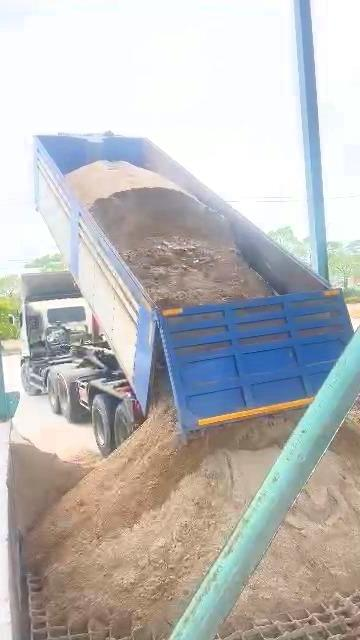sand: (26, 386, 294, 637), (67, 161, 271, 307), (231, 427, 360, 625), (12, 442, 89, 533)
